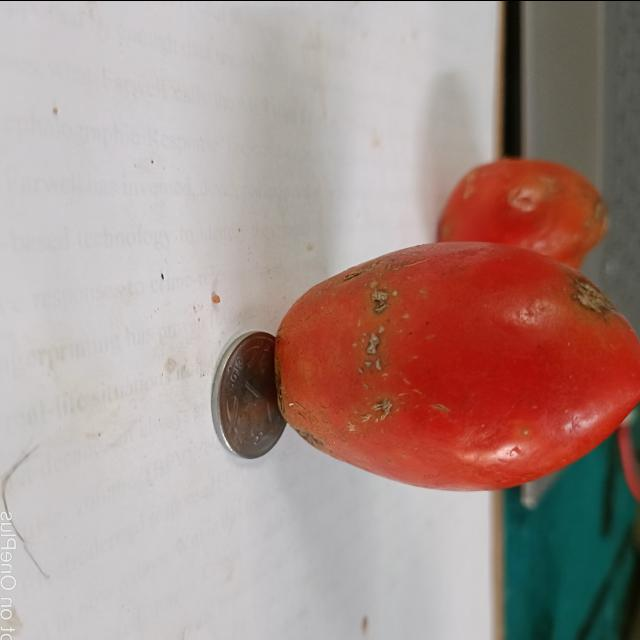Bacterial_Spot: (361, 382, 403, 436), (568, 277, 616, 313), (347, 332, 391, 369), (364, 283, 400, 309)
